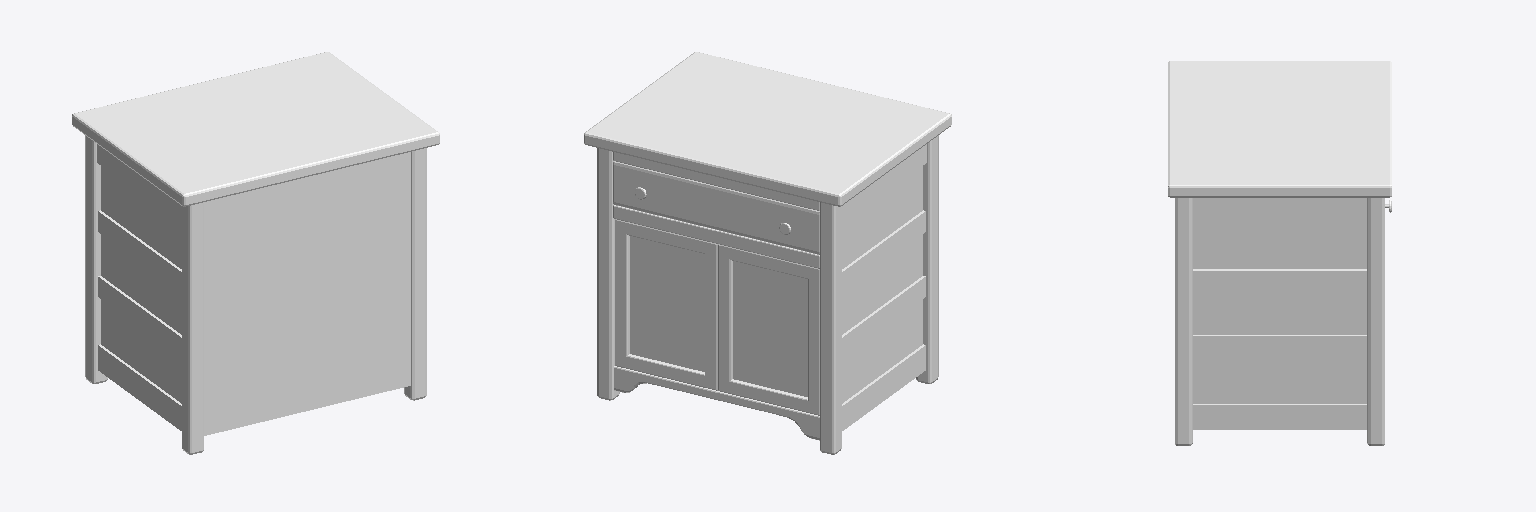
The model's file is old_simple_drawer.obj.
The picture shows the model from 3 angles: view 1: azimuth 30°, elevation 25°; view 2: azimuth 150°, elevation 25°; view 3: azimuth 270°, elevation 25°; orthographic projection.
Visible parts, largest first — view 1: obj1; view 2: obj1; view 3: obj1.
Boxes of the visible parts, <box> form: obj1: <box>72,52,439,454</box>; obj1: <box>584,52,951,454</box>; obj1: <box>1168,61,1391,445</box>.
Bounding box in the file's own units: 4.63 × 4.57 × 3.5.